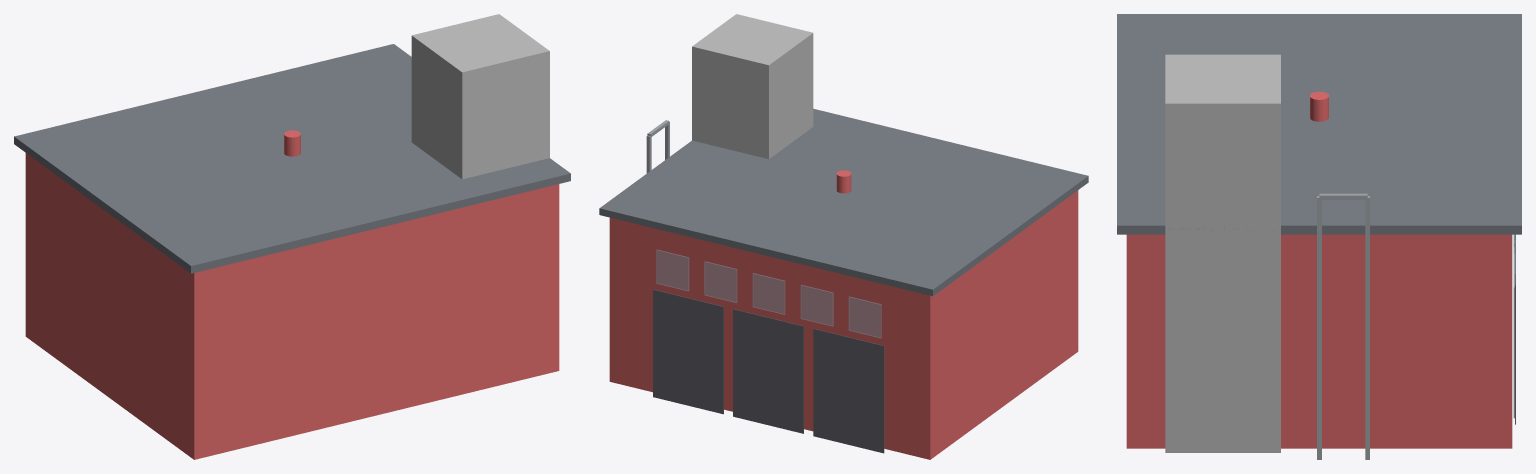
Rendered from fire_station.fbx.
The picture shows the model from 3 angles, left to right: view 1: azimuth 30°, elevation 25°; view 2: azimuth 150°, elevation 25°; view 3: azimuth 270°, elevation 25°; orthographic projection. The views are drawn at different scales.
Visible parts, largest first — view 1: MainBody, Roof, TrainTower; view 2: MainBody, Roof, TrainTower, GarageFrame_0, GarageFrame_1, GarageFrame_2, Win_U_-1.5, Win_U_0, Win_U_3, Win_U_-3, Win_U_1.5; view 3: Roof, MainBody, TrainTower, HoseRack_L, HoseRack_R, Siren.
Boxes of the visible parts, <box> form: MainBody: <box>25,153,559,459</box>; Roof: <box>14,44,570,273</box>; TrainTower: <box>411,14,549,179</box>; MainBody: <box>609,190,1078,459</box>; Roof: <box>599,108,1088,296</box>; TrainTower: <box>692,14,813,159</box>; GarageFrame_0: <box>813,328,884,453</box>; GarageFrame_1: <box>733,309,803,433</box>; GarageFrame_2: <box>653,289,723,414</box>; Win_U_-1.5: <box>800,285,833,326</box>; Win_U_0: <box>752,273,785,314</box>; Win_U_3: <box>656,249,689,291</box>; Win_U_-3: <box>848,296,881,338</box>; Win_U_1.5: <box>704,261,737,302</box>; Roof: <box>1117,14,1521,234</box>; MainBody: <box>1126,234,1512,448</box>; TrainTower: <box>1165,54,1280,452</box>; HoseRack_L: <box>1317,196,1321,459</box>; HoseRack_R: <box>1365,196,1369,459</box>; Siren: <box>1310,91,1328,121</box>.
Size of the model in its own units: 10.75 by 8.1 by 8.4.
